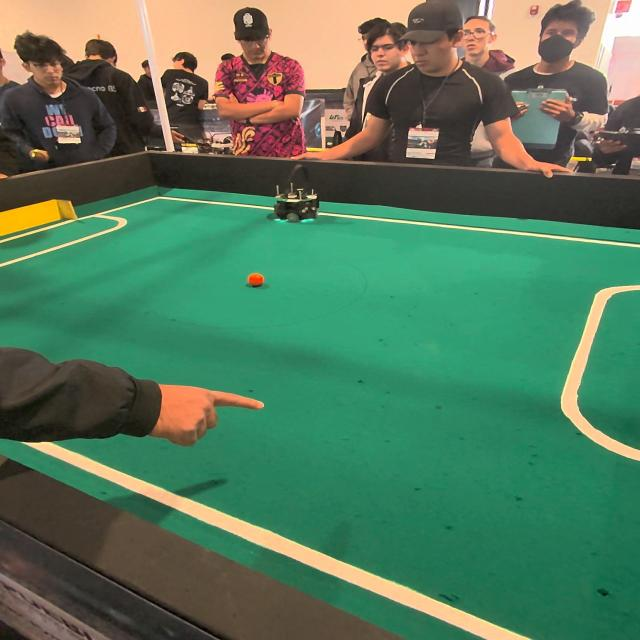Robot: (268, 163, 322, 231)
pelota: (248, 274, 264, 288)
